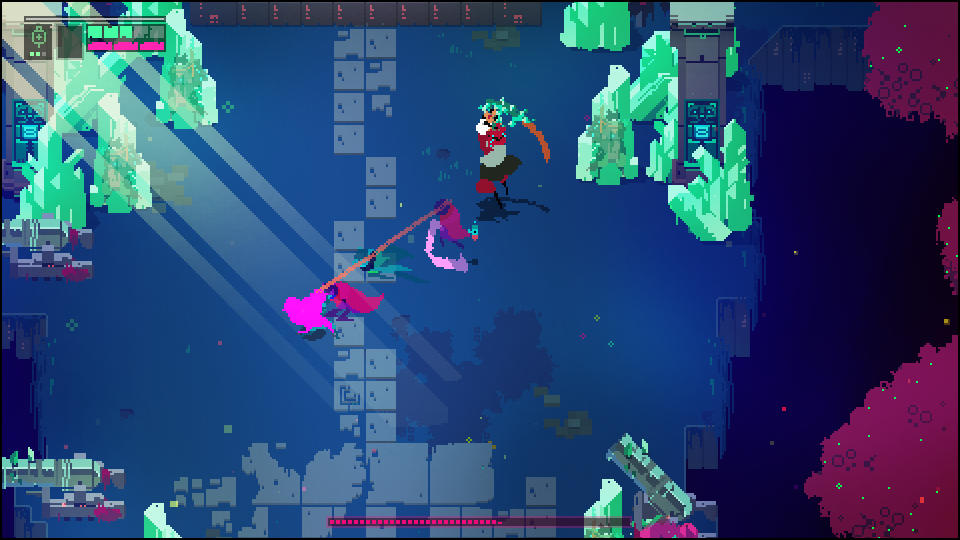hanged_man: (471, 93, 543, 205)
player: (280, 287, 338, 344)
